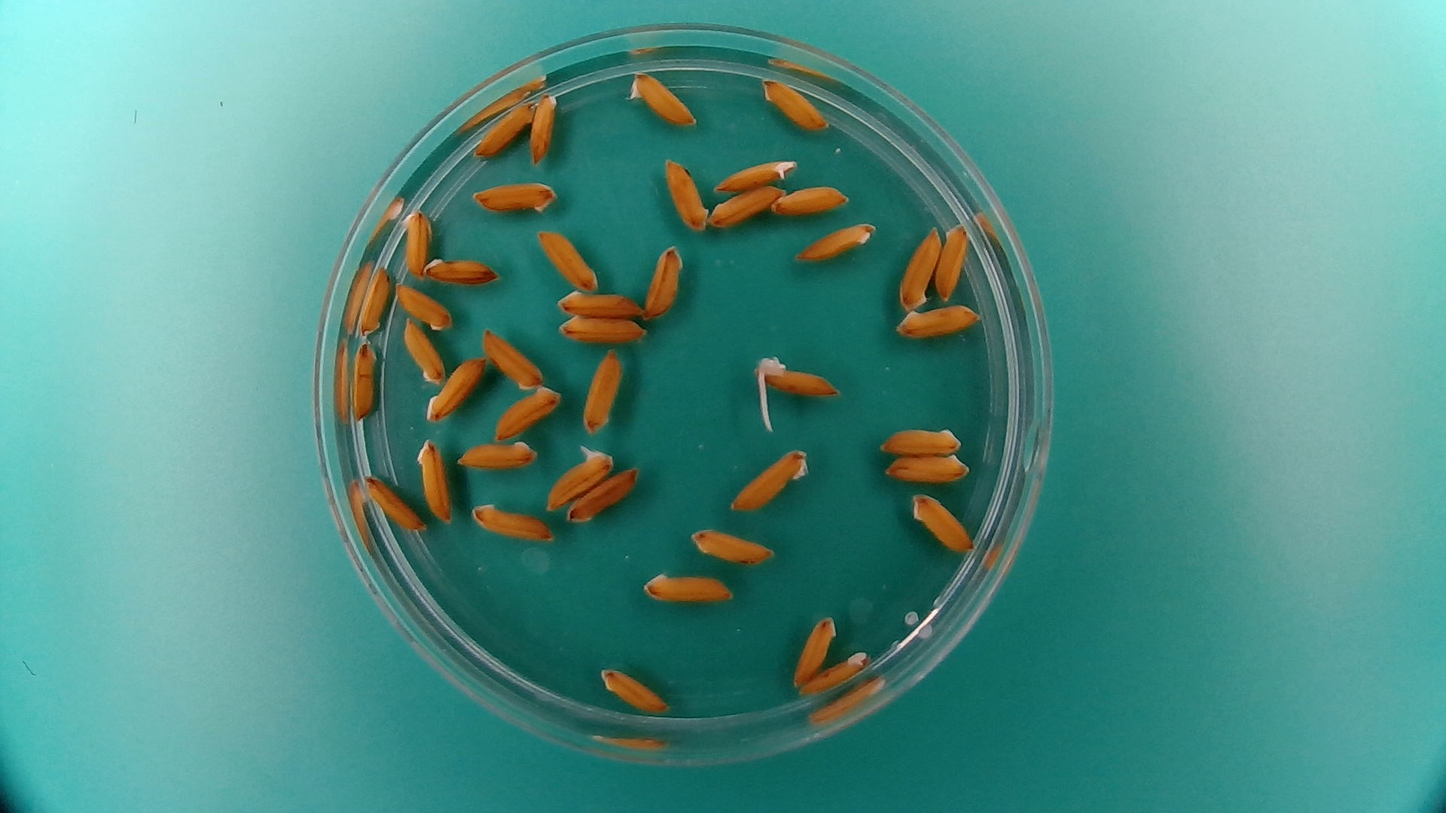no: (723, 443, 813, 516), (566, 461, 642, 524), (623, 67, 699, 127), (423, 354, 487, 423), (480, 324, 545, 391), (908, 491, 976, 555), (534, 226, 600, 291), (491, 382, 564, 440), (896, 224, 943, 311), (790, 218, 880, 263), (758, 75, 829, 132), (639, 565, 737, 606), (794, 647, 871, 699), (789, 611, 839, 690), (468, 500, 557, 544), (581, 346, 624, 437), (471, 97, 535, 158), (596, 663, 671, 715), (362, 473, 426, 533), (413, 435, 454, 528), (663, 155, 710, 233), (687, 524, 776, 565), (707, 183, 783, 230), (469, 178, 558, 216), (882, 449, 974, 485), (642, 242, 684, 320), (877, 421, 967, 457), (933, 219, 972, 302), (896, 305, 988, 340), (401, 314, 445, 386), (555, 312, 646, 346), (453, 434, 538, 470), (392, 282, 453, 331), (771, 181, 851, 216), (554, 287, 644, 318), (349, 337, 380, 422), (356, 263, 392, 336), (422, 252, 501, 285), (528, 87, 560, 166), (401, 206, 432, 278)
yes: (541, 440, 617, 511), (751, 354, 842, 407), (708, 153, 798, 195)
